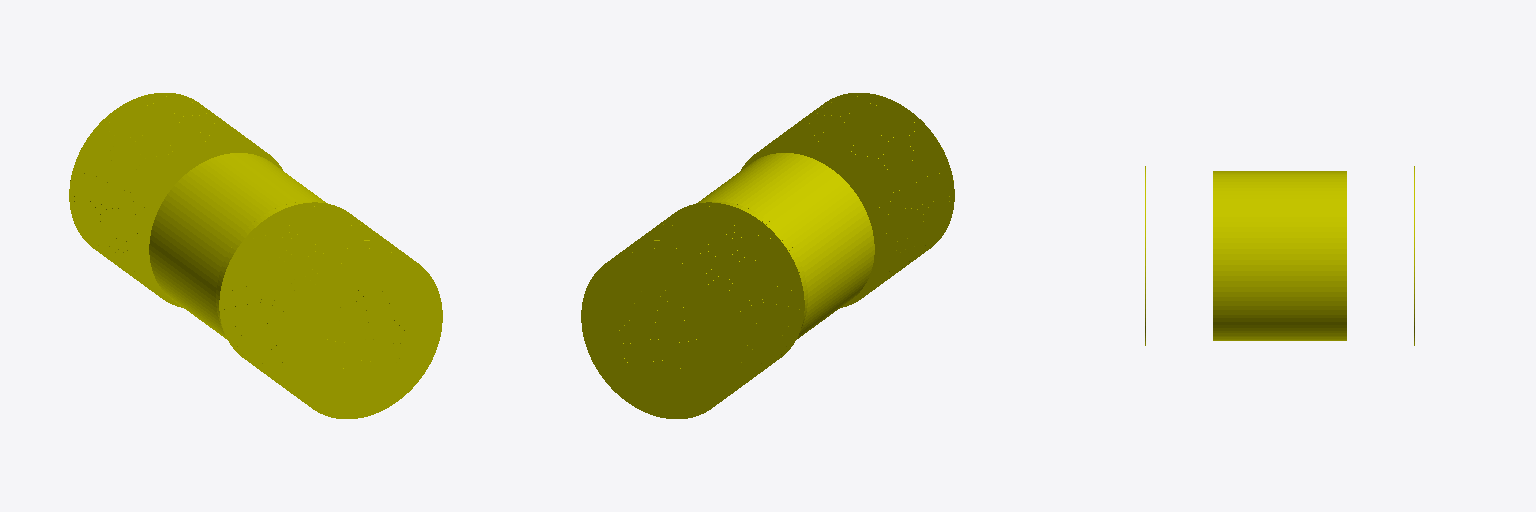
The model's file is TRT.obj.
3 views of the same model, side by side, from view 1: azimuth 30°, elevation 25°; view 2: azimuth 150°, elevation 25°; view 3: azimuth 270°, elevation 25° (orthographic).
Parts seen in each view (by area): view 1: Shape_IndexedFaceSet.006, Shape_IndexedFaceSet.021, Shape_IndexedFaceSet.007, Shape_IndexedFaceSet.022, Shape_IndexedFaceSet.023, Shape_IndexedFaceSet.024, Shape_IndexedFaceSet.025, Shape_IndexedFaceSet.026, Shape_IndexedFaceSet.027, Shape_IndexedFaceSet.028, Shape_IndexedFaceSet.029, Shape_IndexedFaceSet.030 (+18 smaller); view 2: Shape_IndexedFaceSet.006, Shape_IndexedFaceSet.020, Shape_IndexedFaceSet.034, Shape_IndexedFaceSet.019, Shape_IndexedFaceSet.018, Shape_IndexedFaceSet.017, Shape_IndexedFaceSet.016, Shape_IndexedFaceSet.015, Shape_IndexedFaceSet.014, Shape_IndexedFaceSet.013, Shape_IndexedFaceSet.012, Shape_IndexedFaceSet.011 (+18 smaller); view 3: Shape_IndexedFaceSet.006.
Part boxes in pixels (x1,y1,x2,y2): Shape_IndexedFaceSet.006: (149, 153, 327, 338); Shape_IndexedFaceSet.021: (287, 252, 442, 418); Shape_IndexedFaceSet.007: (137, 142, 282, 307); Shape_IndexedFaceSet.022: (282, 248, 411, 403); Shape_IndexedFaceSet.023: (276, 244, 407, 401); Shape_IndexedFaceSet.024: (271, 240, 403, 395); Shape_IndexedFaceSet.025: (266, 237, 396, 393); Shape_IndexedFaceSet.026: (261, 233, 392, 390); Shape_IndexedFaceSet.027: (256, 229, 388, 384); Shape_IndexedFaceSet.028: (250, 225, 381, 382); Shape_IndexedFaceSet.029: (245, 221, 377, 379); Shape_IndexedFaceSet.030: (240, 218, 370, 373); Shape_IndexedFaceSet.006: (696, 153, 874, 338); Shape_IndexedFaceSet.020: (581, 252, 736, 418); Shape_IndexedFaceSet.034: (741, 142, 886, 307); Shape_IndexedFaceSet.019: (612, 248, 741, 403); Shape_IndexedFaceSet.018: (616, 244, 747, 401); Shape_IndexedFaceSet.017: (620, 240, 752, 395); Shape_IndexedFaceSet.016: (627, 237, 757, 393); Shape_IndexedFaceSet.015: (631, 233, 762, 390); Shape_IndexedFaceSet.014: (635, 229, 767, 384); Shape_IndexedFaceSet.013: (642, 225, 773, 382); Shape_IndexedFaceSet.012: (646, 221, 778, 379); Shape_IndexedFaceSet.011: (653, 218, 783, 373); Shape_IndexedFaceSet.006: (1213, 171, 1346, 340).
Bounding box in the file's own units: 2134 × 2134 × 5158.